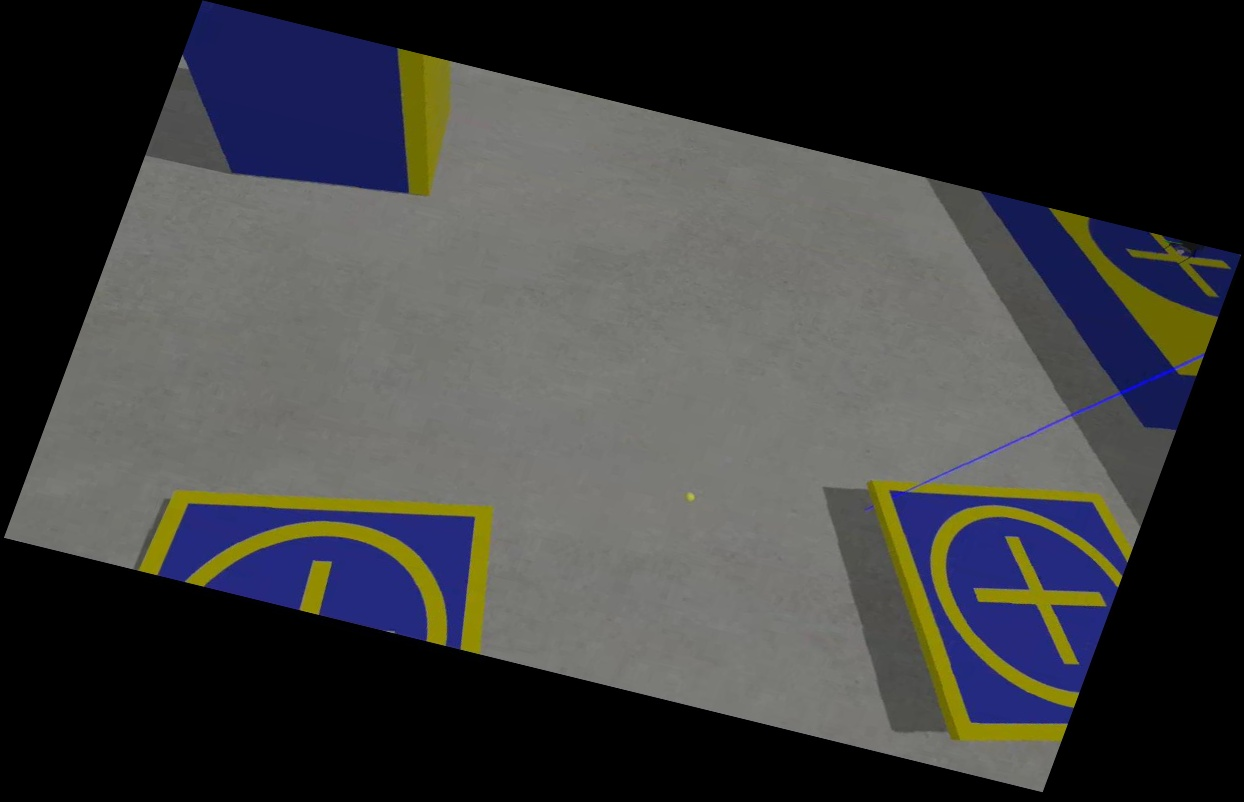large_base: (915, 191, 1243, 435)
small_base: (788, 442, 1150, 766), (125, 426, 541, 658)
